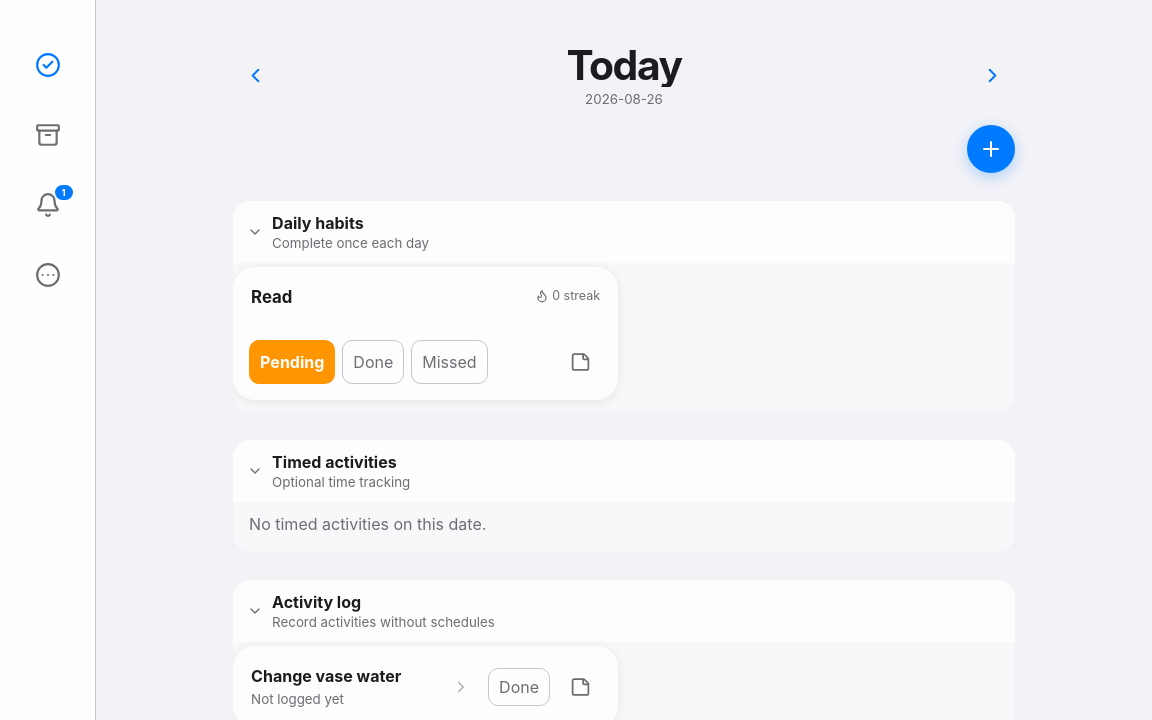
Scenario: Habit Tracker › opens a selected date from the activity-log calendar
Click the button with aria-label "Open Change vase water": (361, 687) x1=249 y1=662 x2=472 y2=711
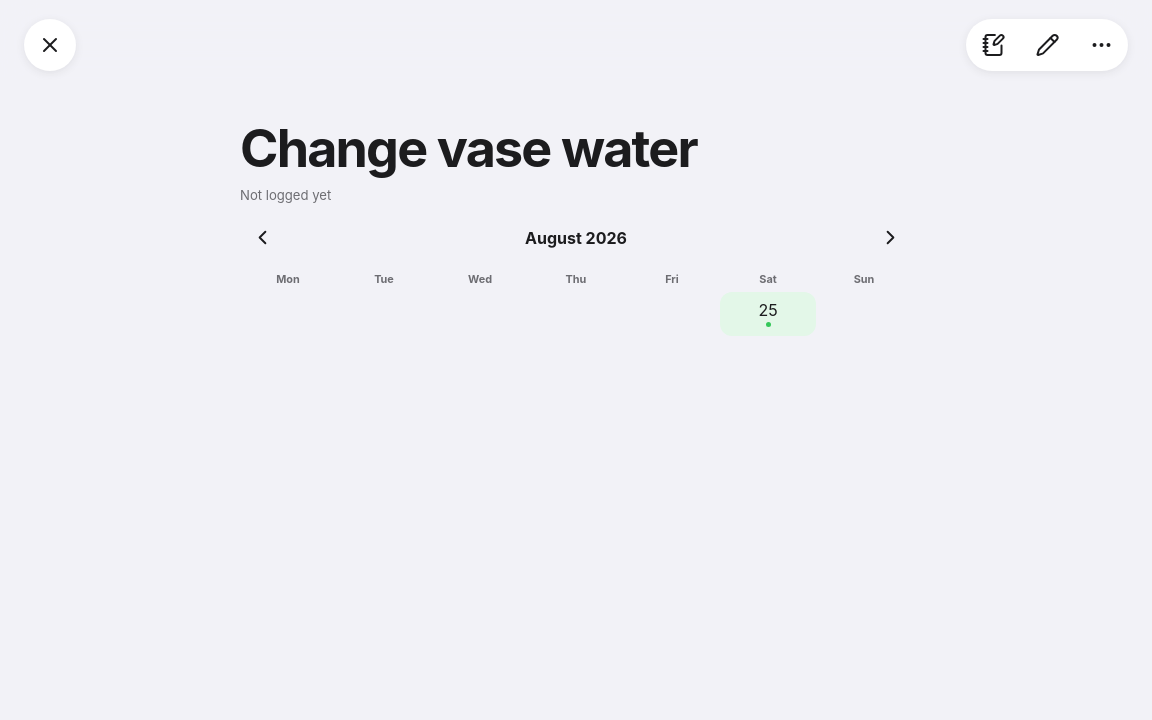
Click the button named "2026-08-25, completed": (768, 314) x1=720 y1=292 x2=816 y2=336
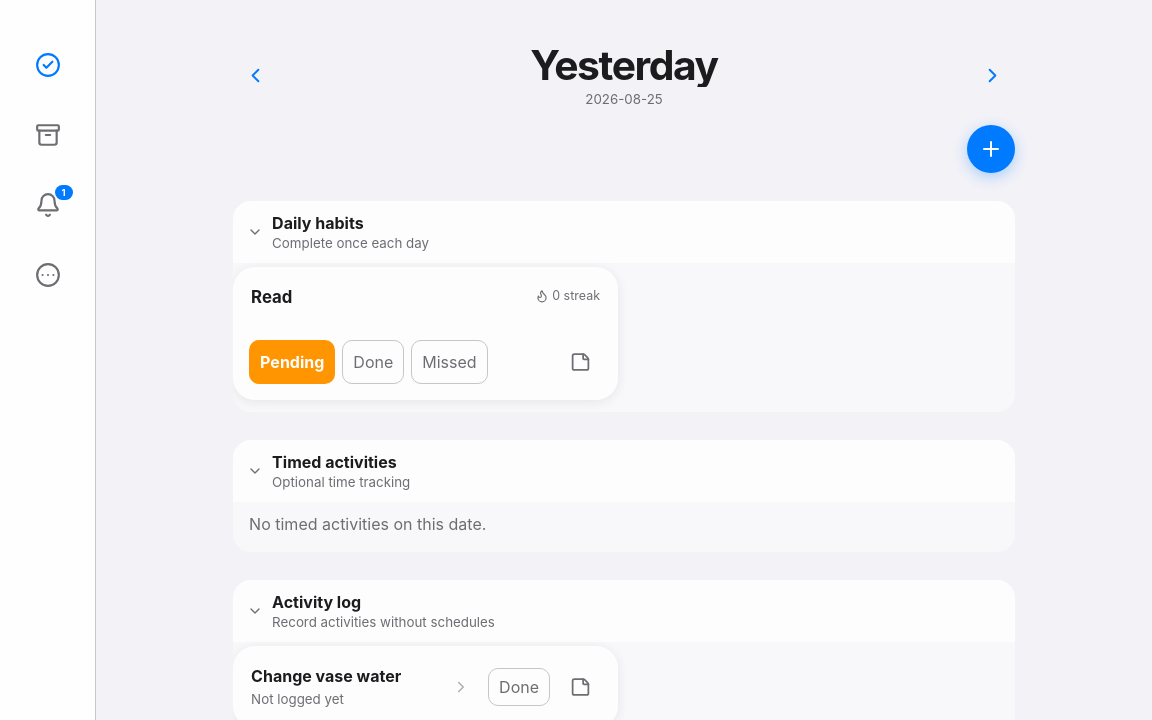
Now the heading "Yesterday" is shown, box x1=530 y1=40 x2=718 y2=90
